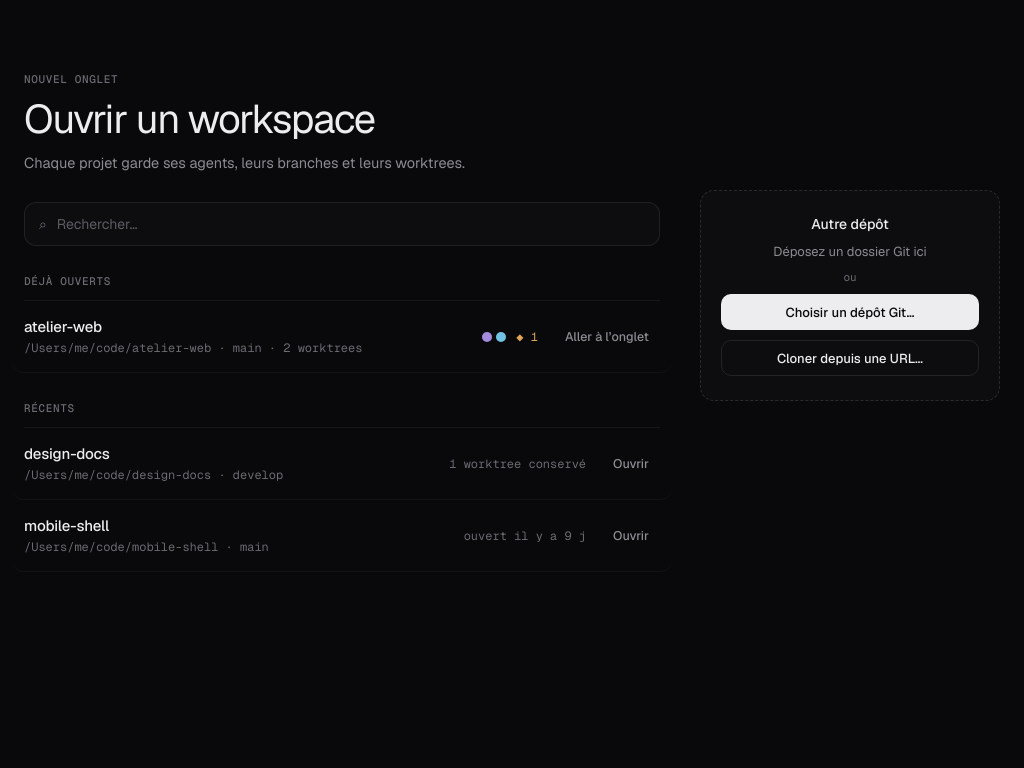
Test case: Clone dialog › closes with Escape, without cloning (modal dialog)
The image size is (1024, 768).
Click the button "Cloner depuis une URL…" at [850, 358], box [721,340,979,376]
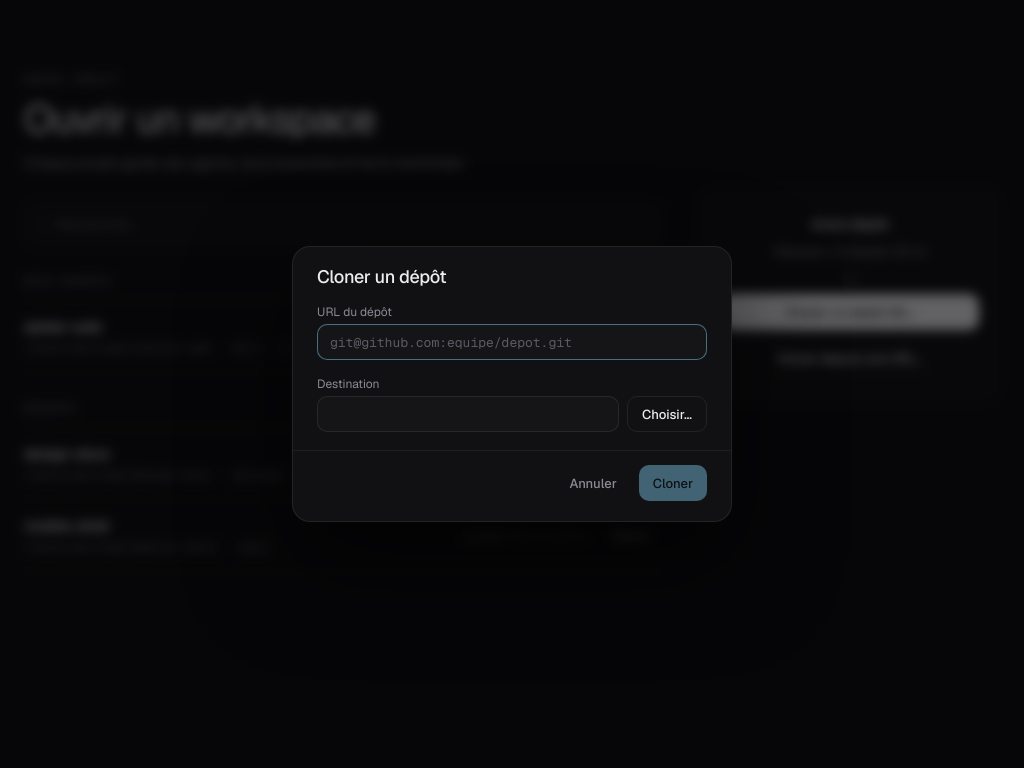
Press Escape
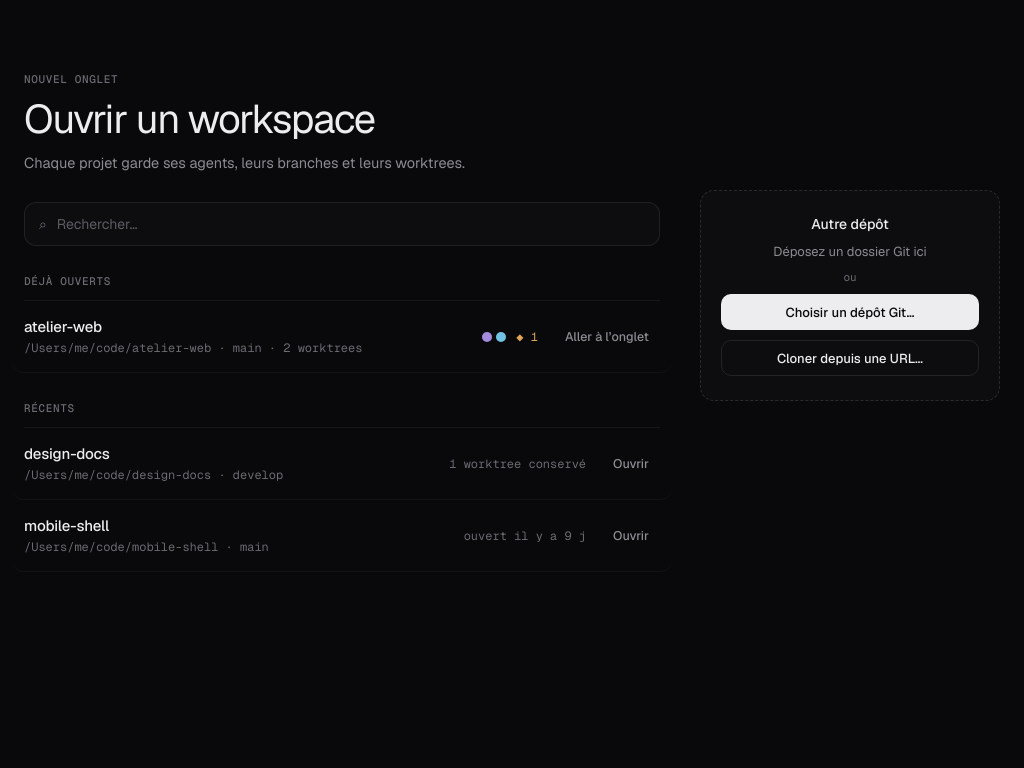
Check: the heading "Cloner un dépôt" is gone
